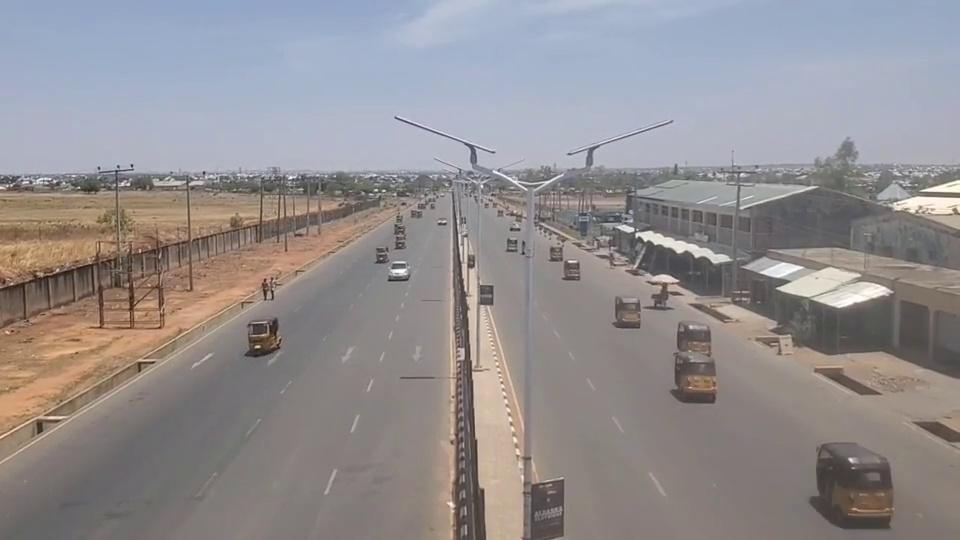car: (387, 261, 410, 281)
keke: (814, 440, 894, 527), (673, 352, 718, 403), (246, 316, 281, 355), (614, 295, 641, 328), (563, 259, 581, 279), (375, 246, 389, 263), (549, 245, 563, 261), (506, 237, 518, 252), (411, 209, 422, 218), (418, 202, 426, 210)
